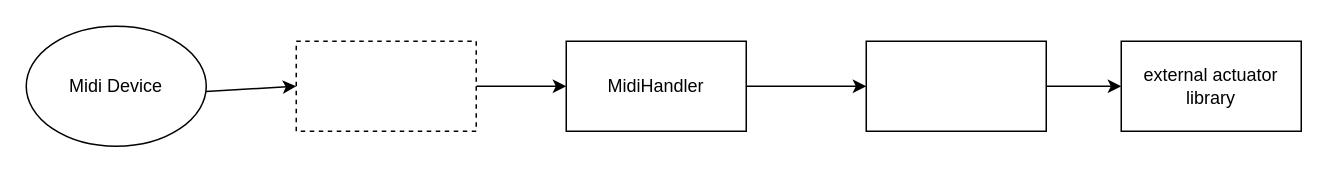
The diagram is 1328 pixels wide and 173 high, and some of its shapes have lost their labels. Each missing label, with the box of its shape:
IActuator: (865, 40, 1046, 131)
RtMidi: (295, 40, 476, 131)
